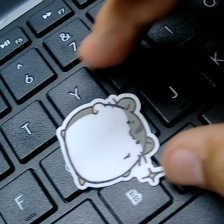mouse: (55, 84, 172, 193)
